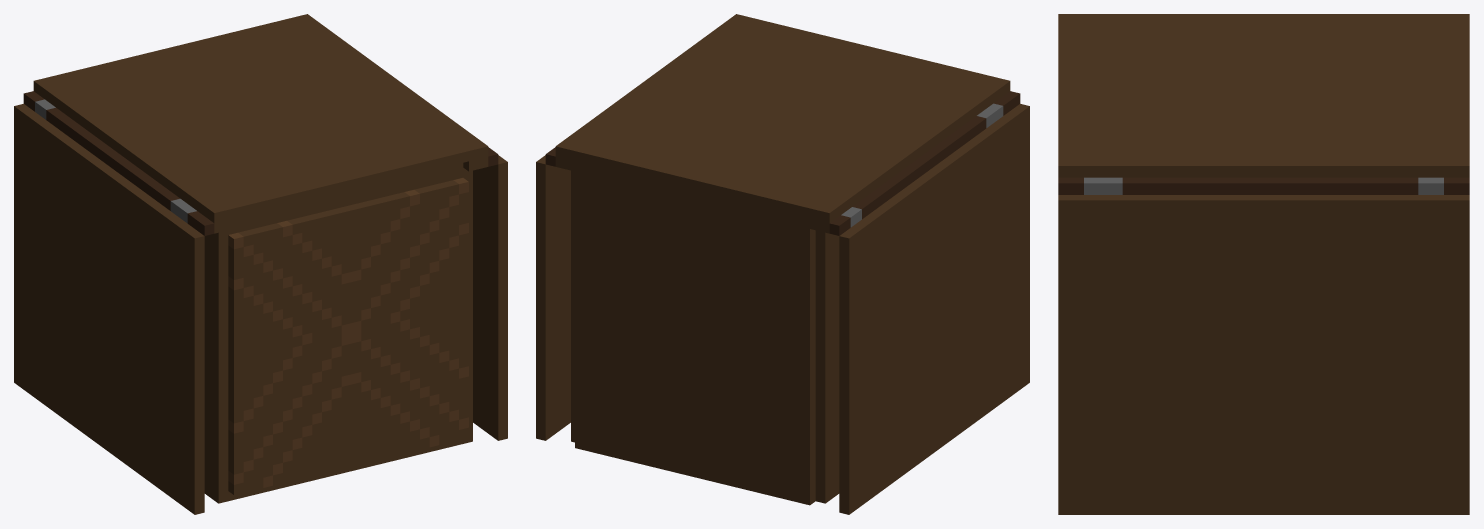
The model's file is stol_rasklad.obj.
3 renders of one model, left to right at view 1: azimuth 30°, elevation 25°; view 2: azimuth 150°, elevation 25°; view 3: azimuth 270°, elevation 25°, orthographic. The views are drawn at different scales.
Bounding box in the file's own units: 3.2 × 2.9 × 3.2.
1 material, 1 textured.
